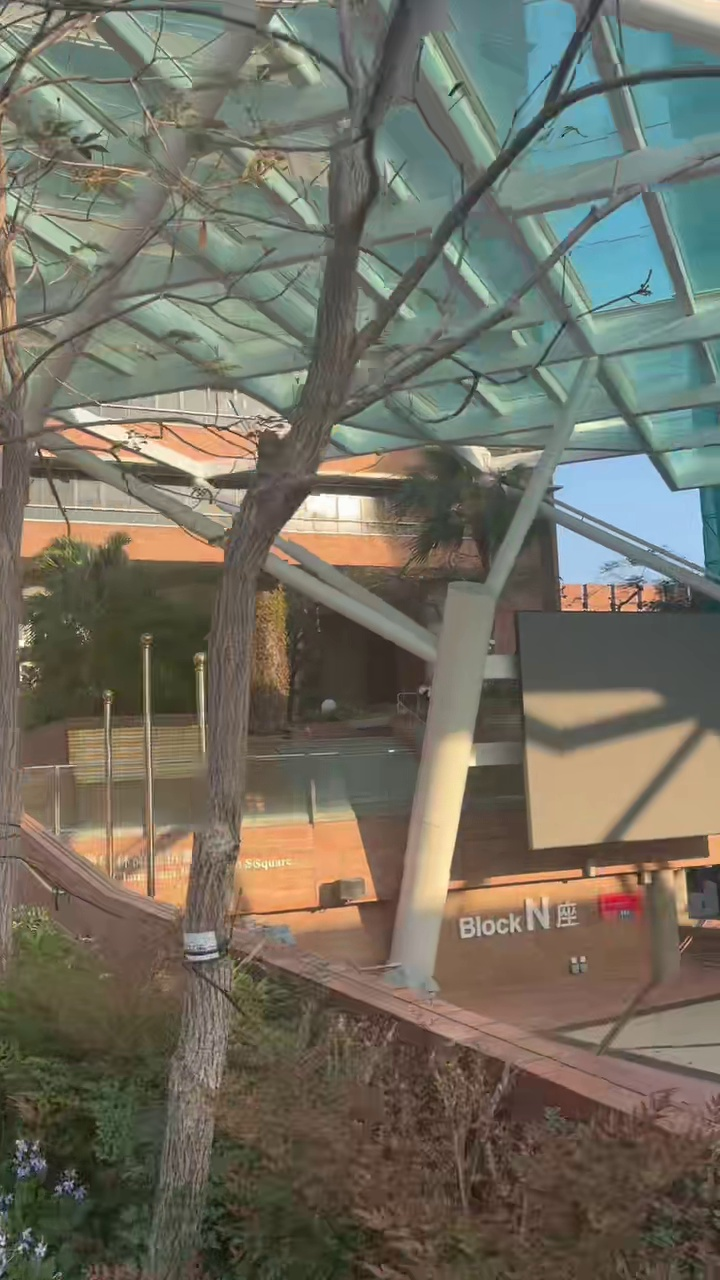Tabebuia chrysantha: (144, 0, 719, 1279)
